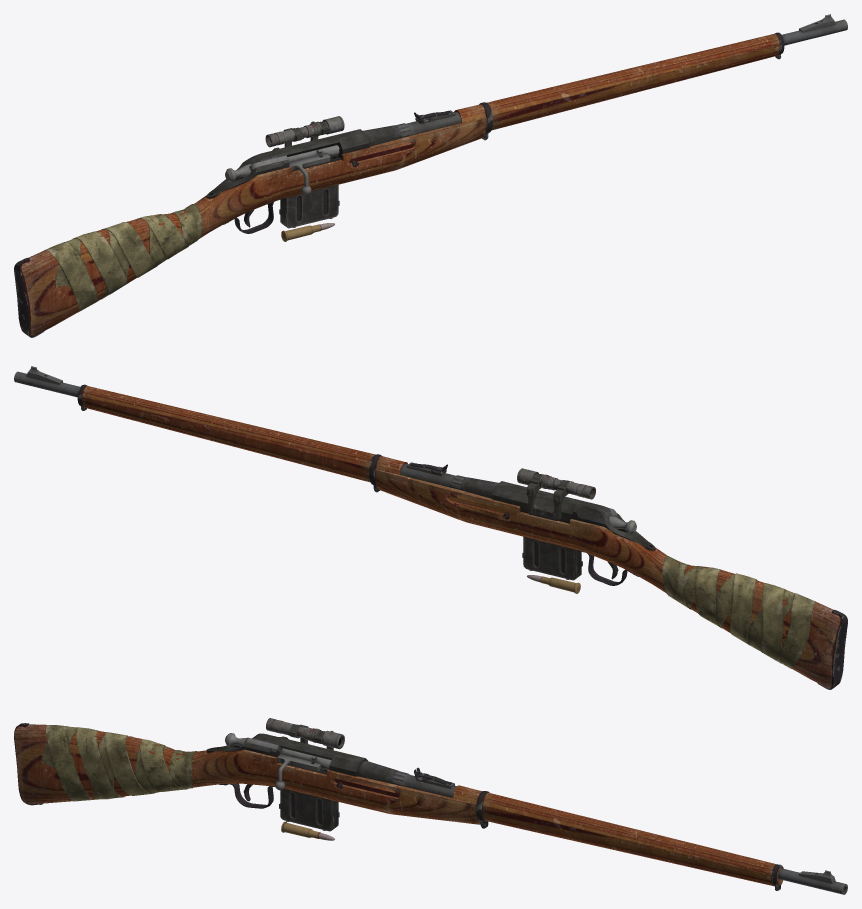
Rendered from bolt_action_rifle_7_62.glb.
3 views of the same model, one above another, from view 1: azimuth 30°, elevation 25°; view 2: azimuth 150°, elevation 25°; view 3: azimuth 330°, elevation 25° (orthographic).
Parts seen in each view (by area): view 1: bolt_action_rifle_7_62; view 2: bolt_action_rifle_7_62; view 3: bolt_action_rifle_7_62.
Boxes of the visible parts, bbox=[...] form: bolt_action_rifle_7_62: bbox=[14, 14, 847, 337]; bolt_action_rifle_7_62: bbox=[14, 366, 847, 689]; bolt_action_rifle_7_62: bbox=[14, 718, 847, 894].
Bounding box in the file's own units: 1.23 × 0.2045 × 0.0666.
3 materials, 3 textured.
